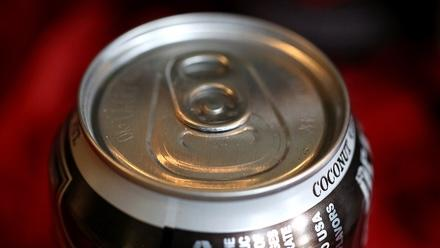metal: (48, 11, 376, 248)
